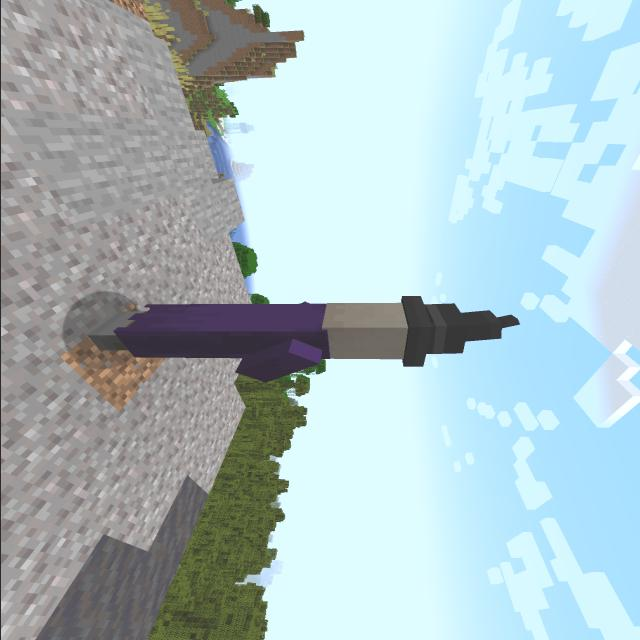Witch: (66, 287, 536, 394)
